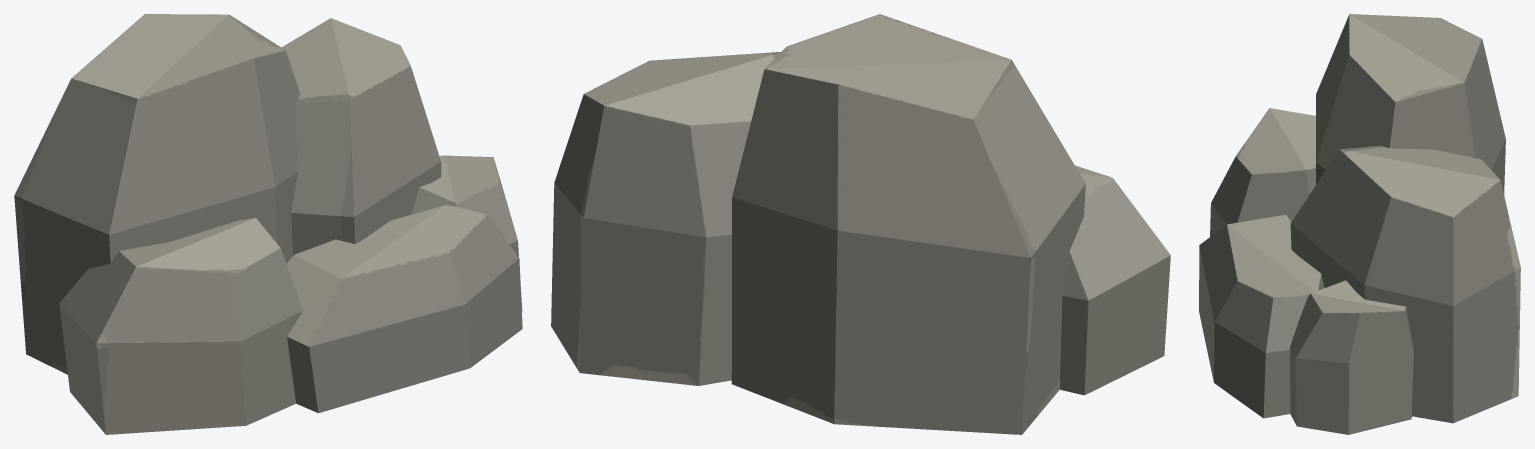
File: rock-cluster.glb
3 renders of one model, left to right at view 1: azimuth 30°, elevation 25°; view 2: azimuth 150°, elevation 25°; view 3: azimuth 270°, elevation 25°, orthographic. The views are drawn at different scales.
Parts seen in each view (by area): view 1: rock-cluster; view 2: rock-cluster; view 3: rock-cluster.
Part boxes in pixels (left/top/right/bottom): rock-cluster: left=14, top=14, right=522, bottom=434; rock-cluster: left=551, top=14, right=1170, bottom=434; rock-cluster: left=1199, top=14, right=1520, bottom=434.
Size of the model in its own units: 2.92 by 1.74 by 1.92.
Materials: 1 (1 with a texture image).
